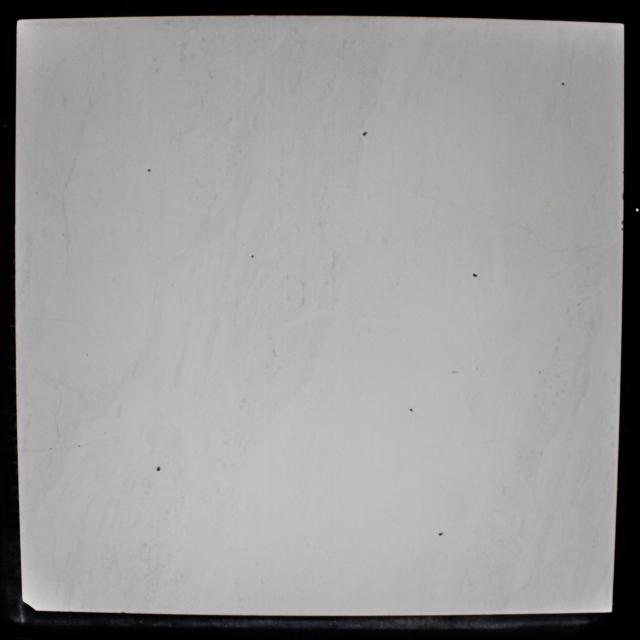edge-chipping: (22, 600, 36, 611)
hole: (362, 130, 368, 137), (560, 80, 566, 87), (408, 407, 414, 413), (146, 167, 152, 173), (472, 273, 478, 278), (438, 532, 444, 537), (250, 254, 255, 259), (156, 466, 160, 472)
